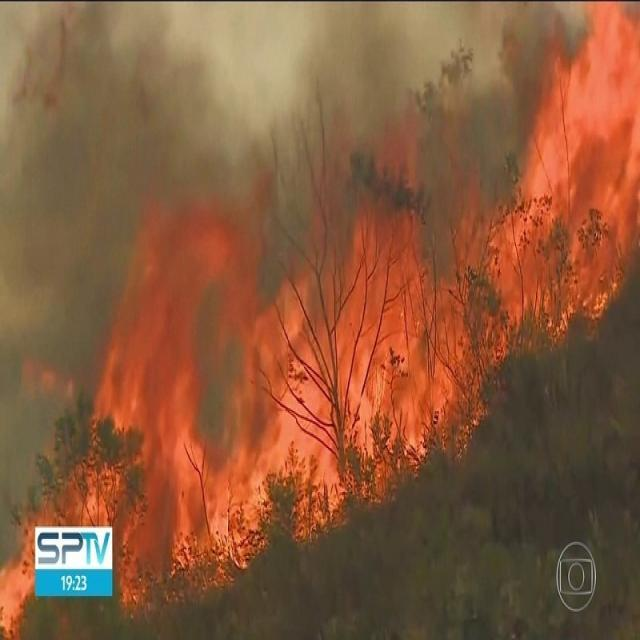Fire: (387, 4, 637, 482), (109, 178, 377, 567), (1, 407, 97, 640)
Smoke: (12, 17, 234, 141)
